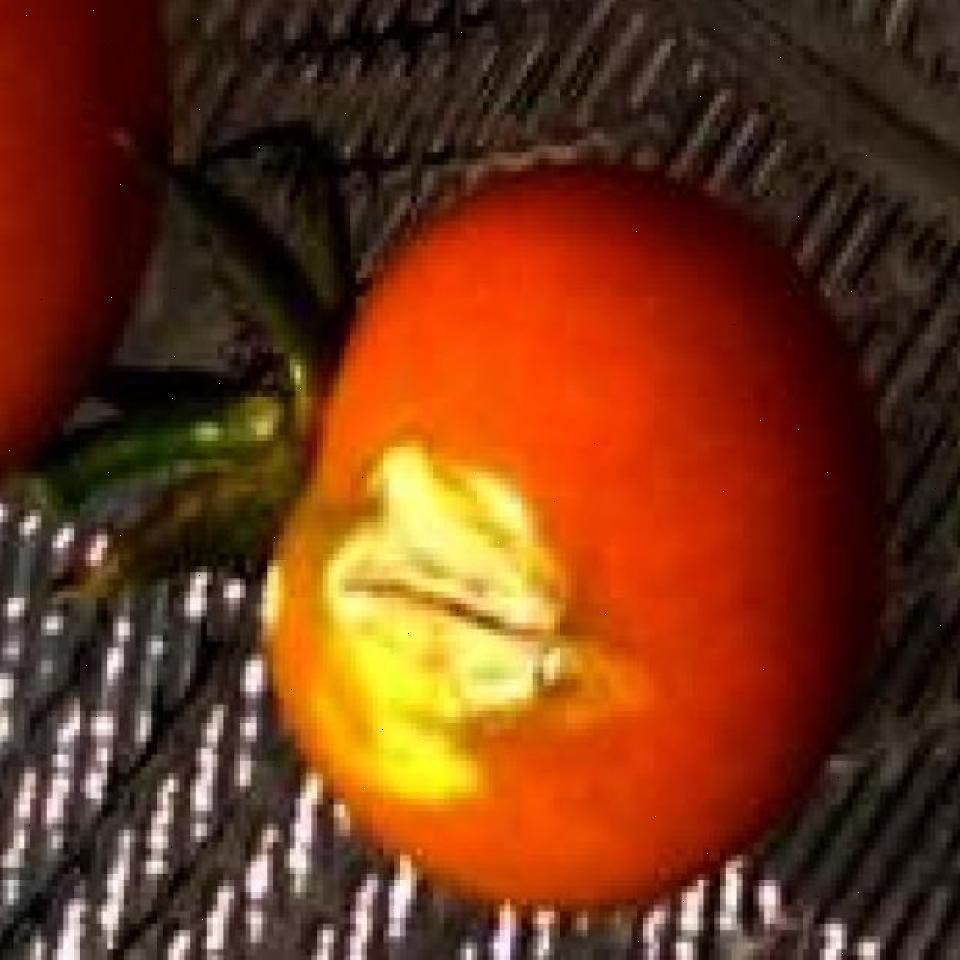Sunscald: (287, 387, 673, 852)
